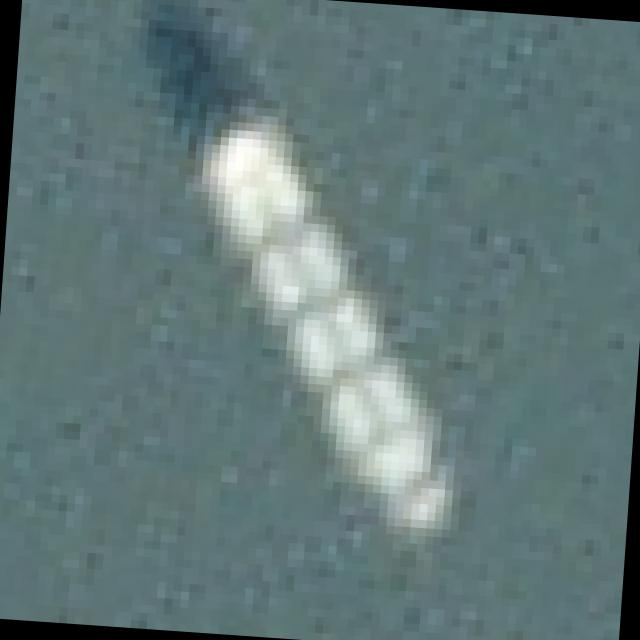ship: (117, 36, 523, 593)
